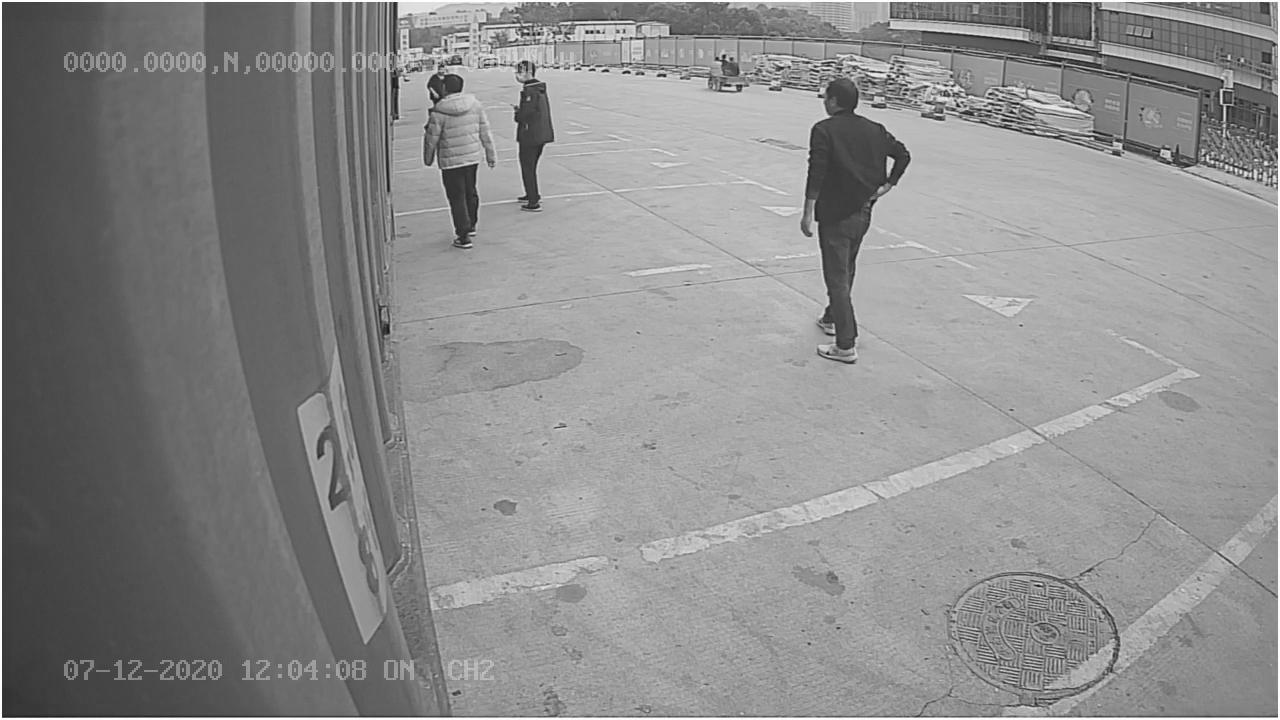person: (794, 77, 914, 362)
